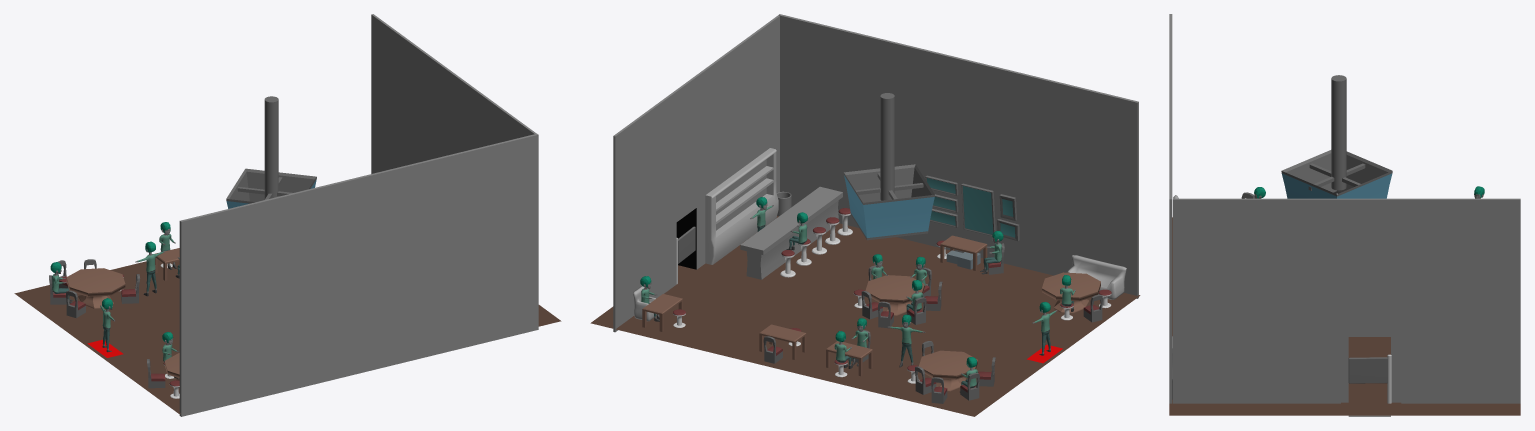
Rendered from Taverne.fbx.
The picture shows the model from 3 angles, left to right: view 1: azimuth 30°, elevation 25°; view 2: azimuth 150°, elevation 25°; view 3: azimuth 270°, elevation 25°; orthographic projection. The views are drawn at different scales.
Visible parts, largest first — view 1: Wand2, Wand1, Boden1, Tisch, Fernseher, pCylinder3; view 2: Wand2, Boden1, Wand1, Fernseher, BarRegal, Tisch (×3), tresen, pCylinder3, BilderRahmen:pCube1, Couch, kleinerTisch1, kleinerTisch2 (+2 smaller); view 3: Wand1, Boden1, Fernseher, pCylinder3, Wand2, KüchenTür.
Boxes of the visible parts, <box> form: Wand2: <box>179,133,538,416</box>; Wand1: <box>371,14,536,173</box>; Boden1: <box>14,259,561,414</box>; Tisch: <box>66,268,125,308</box>; Fernseher: <box>226,168,316,208</box>; pCylinder3: <box>264,96,278,199</box>; Wand2: <box>778,14,1138,298</box>; Boden1: <box>590,216,1140,416</box>; Wand1: <box>613,15,779,332</box>; Fernseher: <box>843,164,934,240</box>; BarRegal: <box>705,148,778,264</box>; Tisch (×3): <box>865,272,1100,391</box>; tresen: <box>740,186,842,279</box>; pCylinder3: <box>880,93,894,200</box>; BilderRahmen:pCube1: <box>961,183,995,235</box>; Couch: <box>1067,255,1126,299</box>; kleinerTisch1: <box>759,324,806,359</box>; kleinerTisch2: <box>940,235,987,270</box>; Wand1: <box>1173,198,1520,416</box>; Boden1: <box>1169,217,1520,415</box>; Fernseher: <box>1281,150,1392,198</box>; pCylinder3: <box>1331,75,1346,190</box>; Wand2: <box>1169,14,1172,403</box>; KüchenTür: <box>1348,357,1387,383</box>.
Size of the model in its own units: 53.17 by 28.98 by 39.86.
26 materials, 1 textured.
